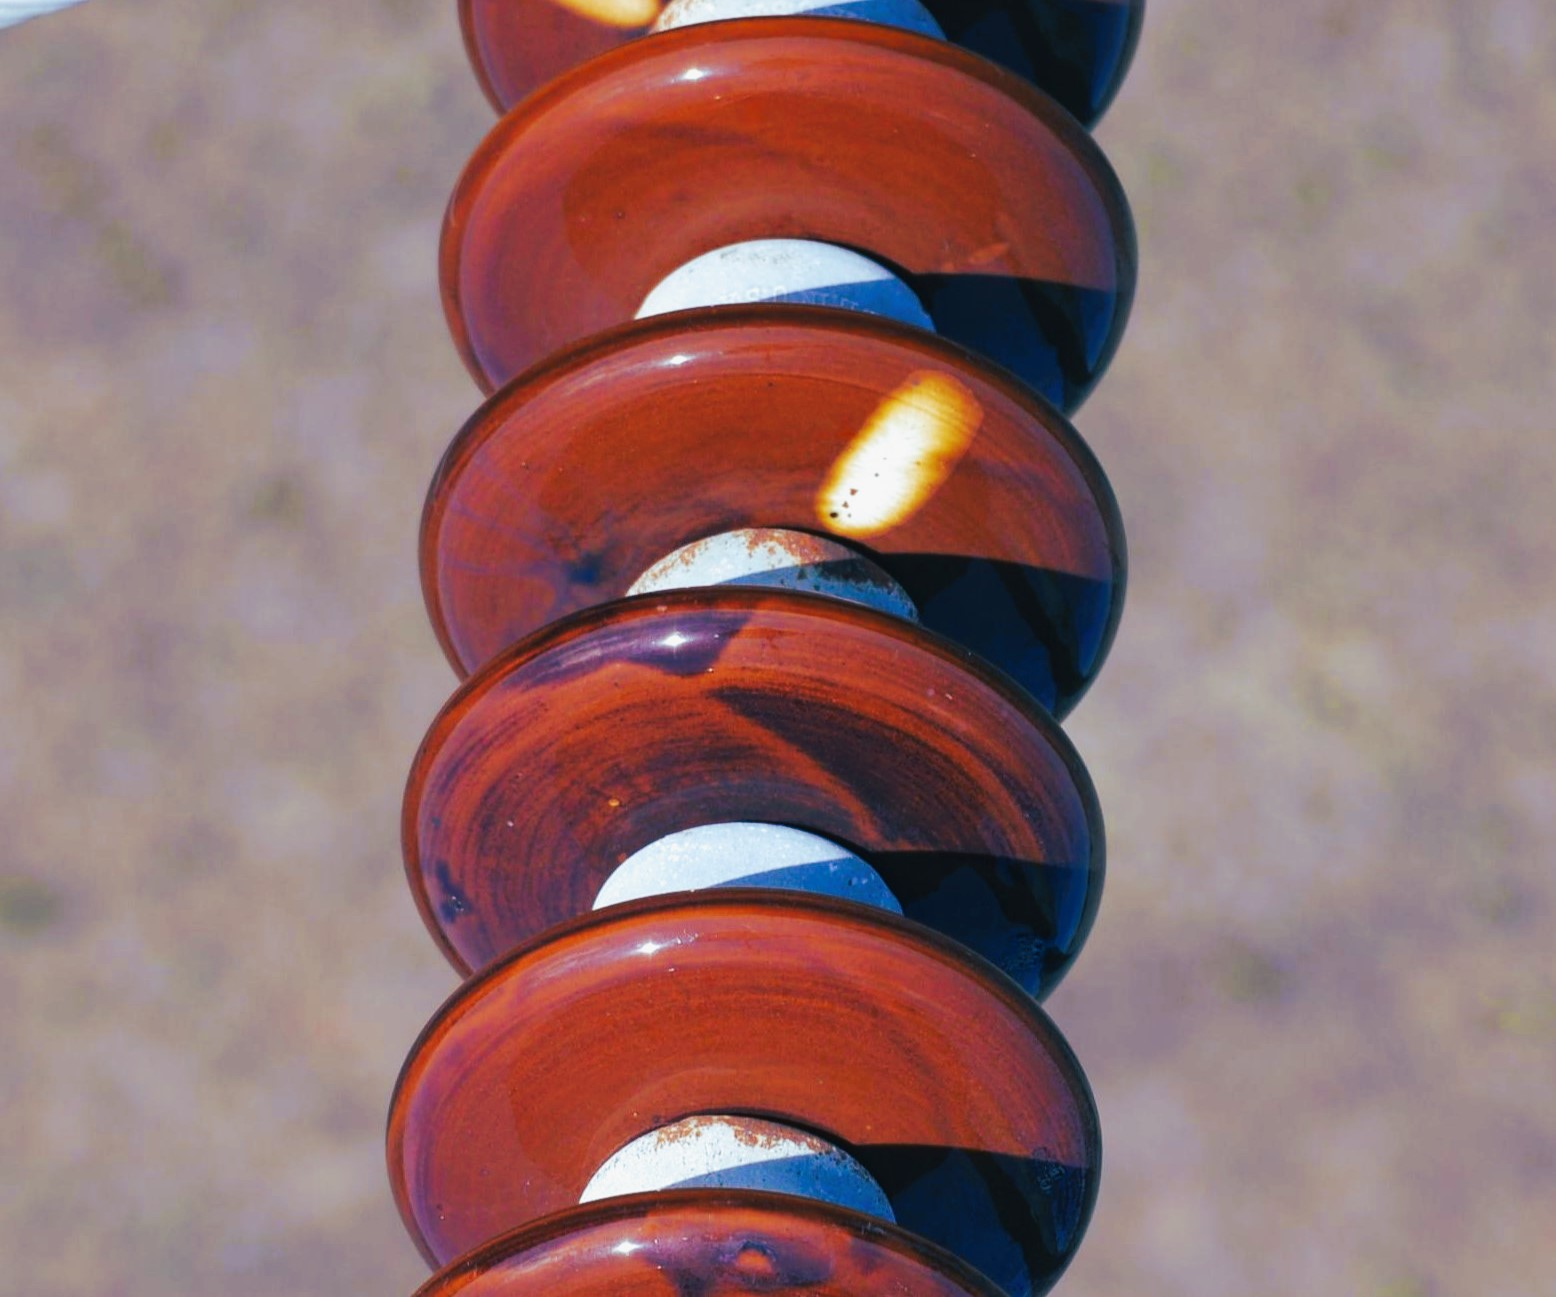Insulator flashover: (401, 293, 1132, 718)
